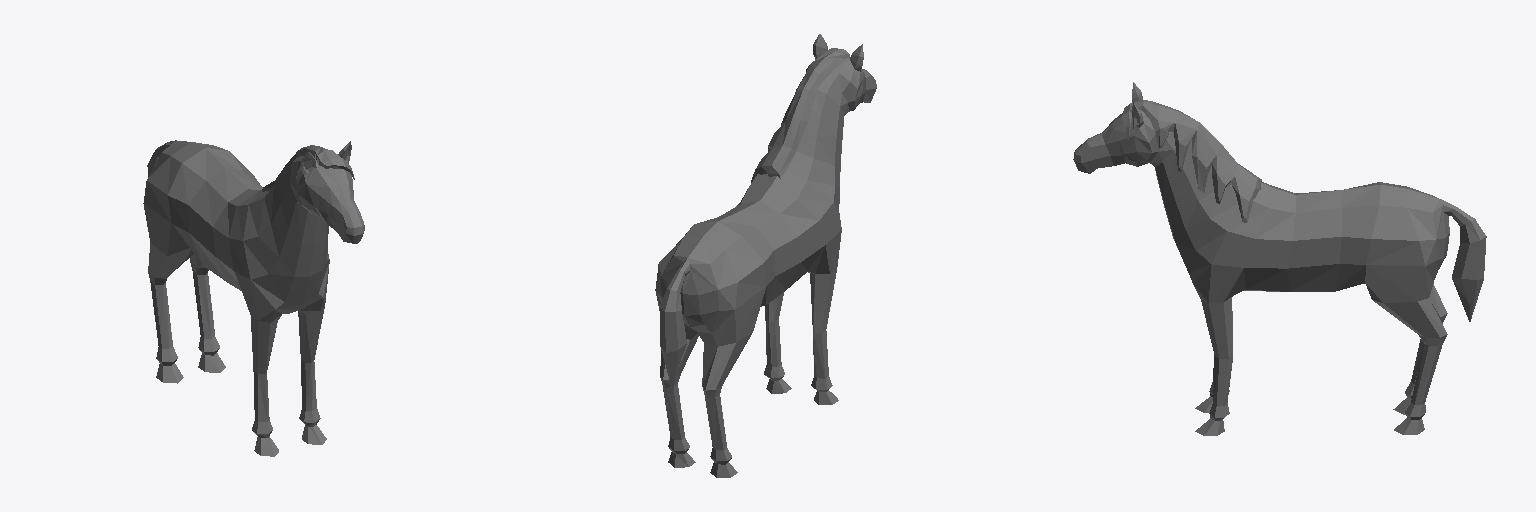
File: Horse_Friesian.obj
3 views of the same model, side by side, from view 1: azimuth 30°, elevation 25°; view 2: azimuth 150°, elevation 25°; view 3: azimuth 270°, elevation 25° (orthographic).
Visible parts, largest first — view 1: WildHorse_mesh; view 2: WildHorse_mesh; view 3: WildHorse_mesh.
Part boxes in pixels (x1,y1,x2,y2): WildHorse_mesh: (143,140,364,456); WildHorse_mesh: (655,34,876,477); WildHorse_mesh: (1073,82,1486,435).
Bounding box in the file's own units: 3.49 × 12.82 × 14.65.